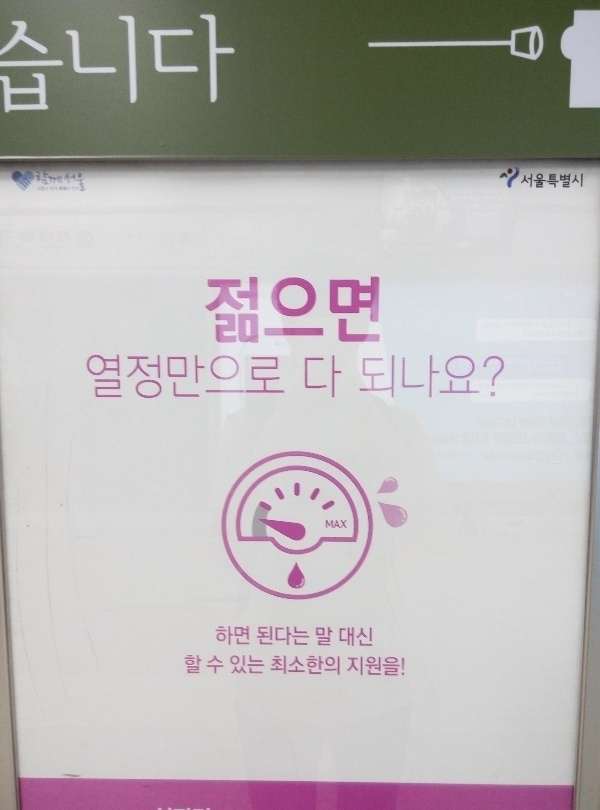text: (1, 8, 16, 121), (17, 8, 32, 121), (33, 8, 48, 121), (49, 8, 64, 121), (65, 8, 80, 121), (81, 8, 96, 121), (97, 8, 112, 121), (113, 8, 128, 121), (129, 8, 144, 121), (145, 8, 160, 121), (161, 8, 176, 121), (177, 8, 192, 121), (193, 8, 208, 121), (209, 8, 224, 121), (225, 8, 236, 121), (209, 274, 224, 346), (225, 274, 240, 346), (241, 274, 256, 346), (257, 274, 272, 346), (273, 274, 288, 346), (289, 274, 304, 346), (305, 274, 320, 346), (321, 274, 336, 346), (337, 274, 352, 346), (353, 274, 368, 346), (369, 274, 381, 346), (97, 353, 112, 401), (113, 353, 128, 401), (129, 353, 144, 401), (145, 353, 160, 401), (161, 353, 176, 401), (177, 353, 192, 401), (193, 353, 208, 401), (209, 353, 224, 401), (225, 353, 240, 401), (241, 353, 256, 401), (257, 353, 272, 401), (369, 353, 384, 401), (385, 353, 400, 401), (401, 353, 416, 401), (417, 353, 432, 401), (433, 353, 448, 401), (449, 353, 464, 401), (465, 353, 480, 401), (481, 353, 496, 401), (305, 354, 320, 400), (321, 354, 336, 400), (273, 353, 286, 401), (86, 353, 96, 401), (497, 353, 506, 401), (353, 654, 368, 682), (369, 654, 384, 682), (385, 654, 400, 682), (273, 653, 288, 678), (289, 653, 304, 678), (305, 653, 320, 678), (321, 653, 336, 678), (361, 353, 368, 401), (193, 654, 208, 675), (209, 654, 224, 675), (225, 625, 240, 646), (257, 626, 272, 647), (273, 626, 288, 647), (289, 626, 304, 647), (353, 626, 368, 647), (241, 655, 256, 675), (529, 172, 544, 192), (545, 172, 560, 192), (561, 172, 576, 192), (337, 354, 343, 400), (339, 626, 352, 647), (321, 625, 333, 647), (230, 655, 240, 675), (184, 654, 192, 675), (346, 654, 352, 682), (216, 625, 224, 646), (241, 625, 249, 646), (206, 274, 208, 346), (257, 655, 264, 675), (577, 172, 584, 192), (325, 518, 336, 530), (337, 518, 347, 530), (401, 654, 405, 682), (305, 626, 310, 647), (337, 653, 341, 678), (523, 172, 528, 192), (316, 625, 320, 647), (369, 626, 373, 647), (271, 653, 272, 678)
